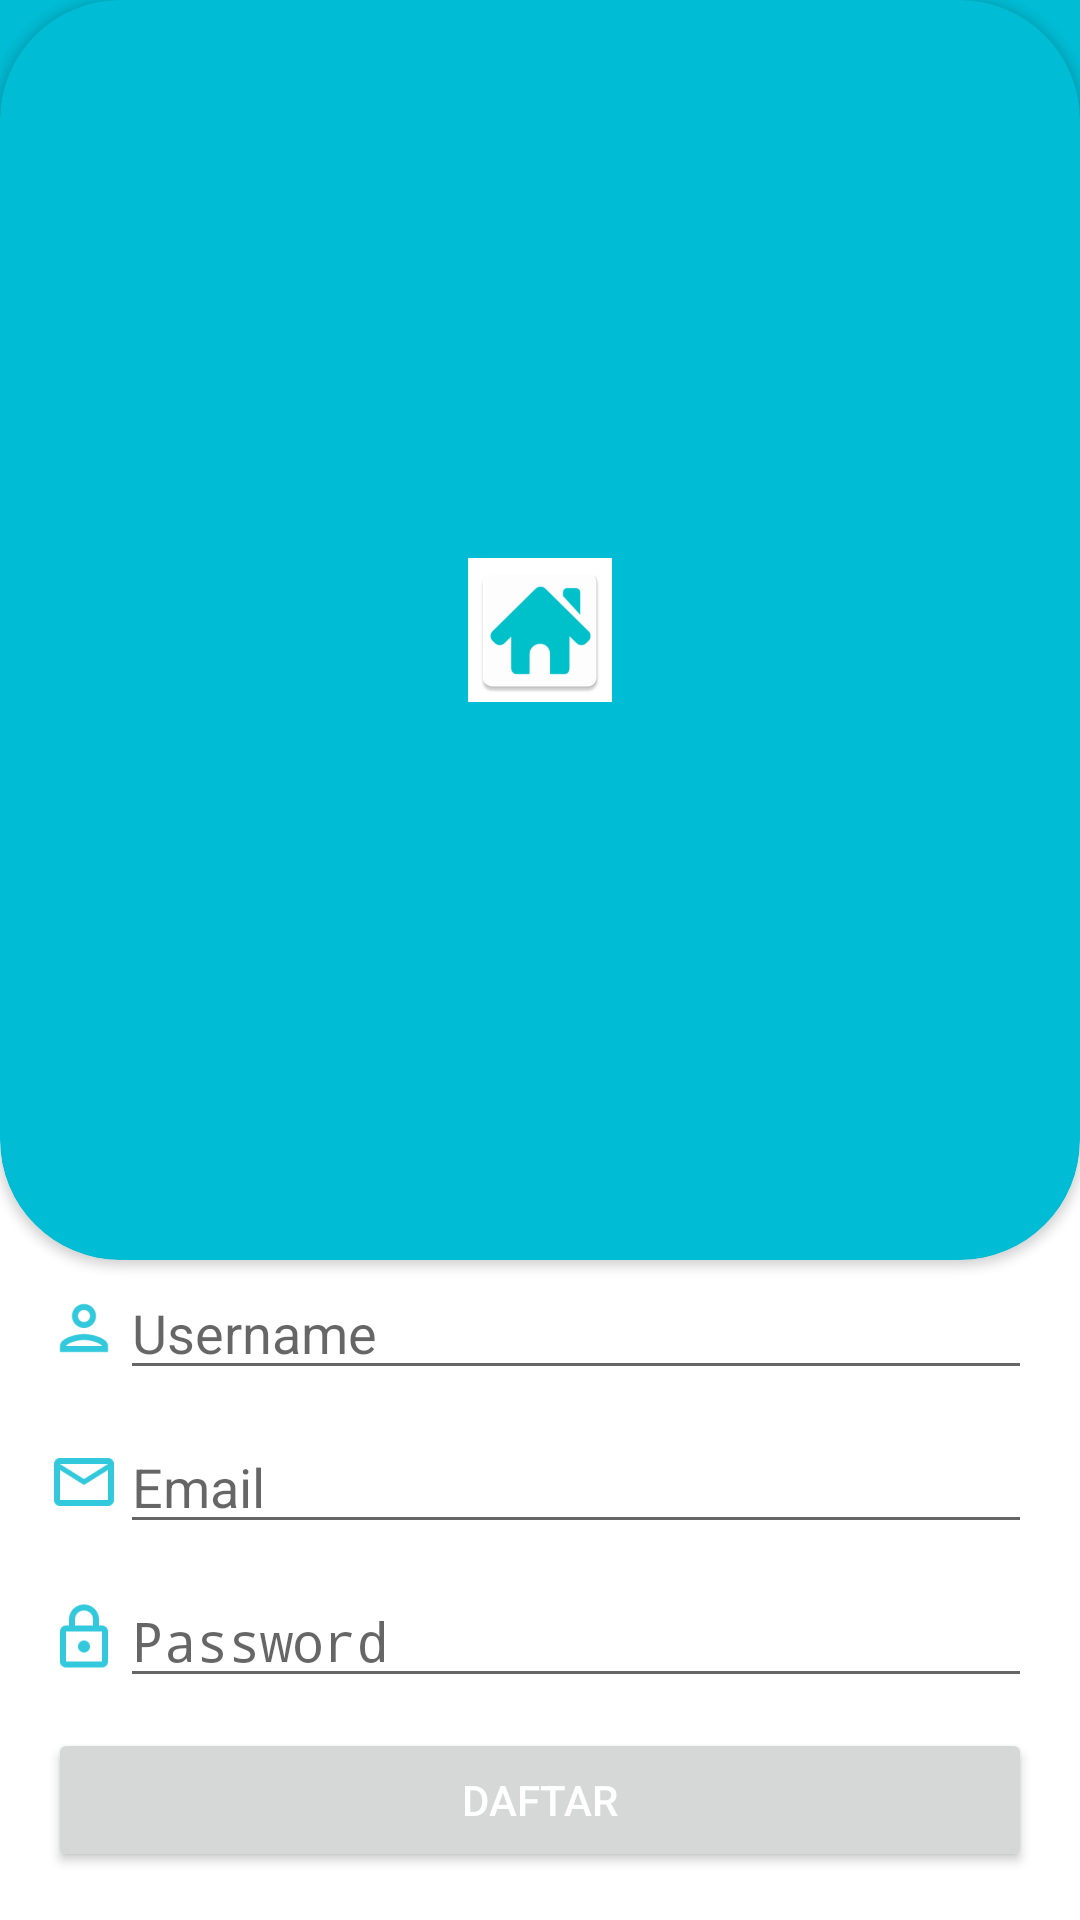

Where to tap for icons on this 1080x1920 app screen, as point (x, y):
lock: point (84, 1636)
person: point (84, 1328)
